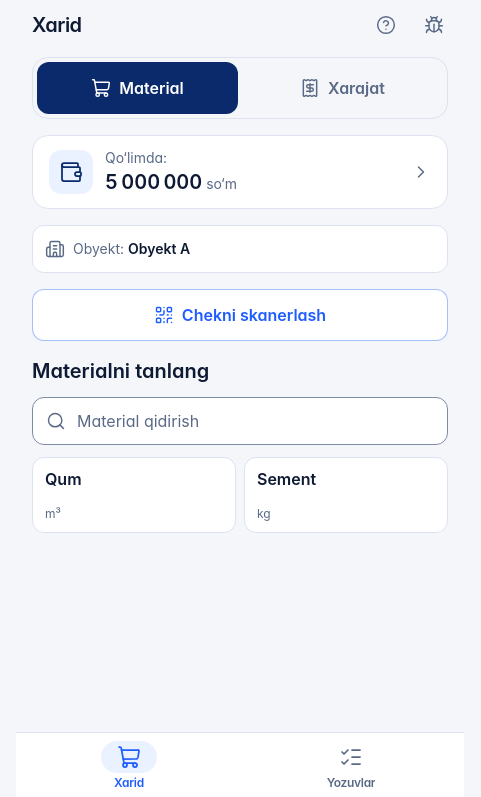
Test case: Batch 12 (G) — chek QR › soliq cheki bo‘lmagan QR — rad, so‘rov yuborilmaydi
Step 1. Click the button "Chekni skanerlash" → (240, 315), box x1=32 y1=289 x2=448 y2=341
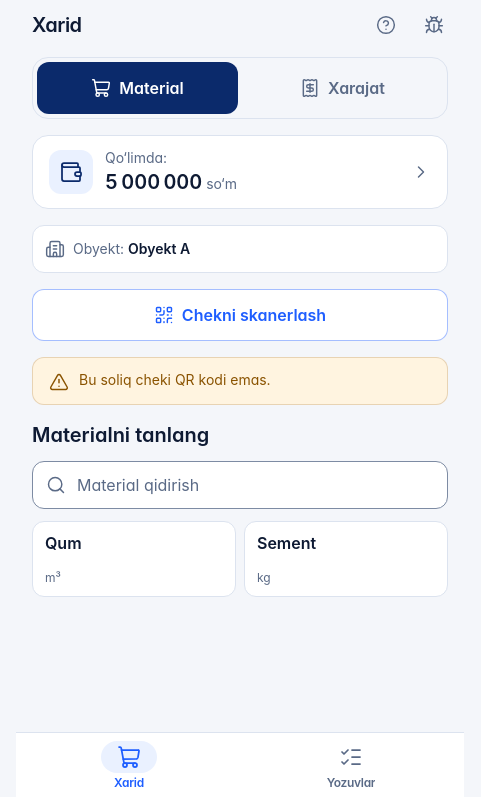
Now the text "Bu soliq cheki QR kodi emas." is shown, box x1=79 y1=371 x2=271 y2=388
